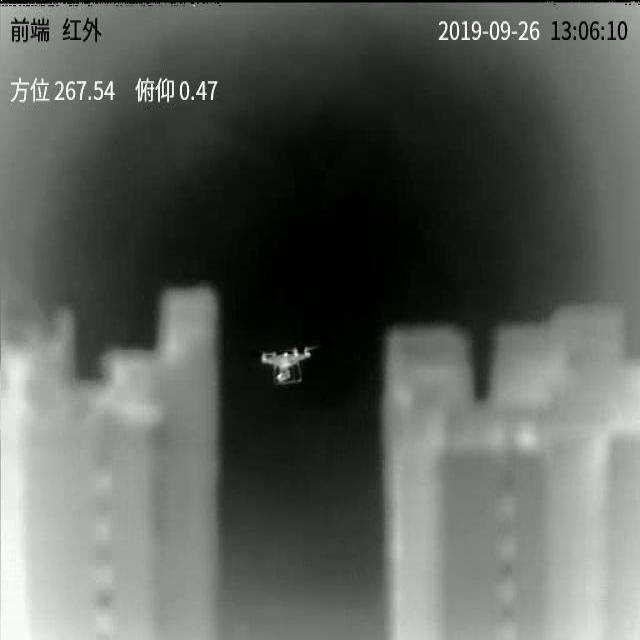drone: (260, 346, 316, 385)
